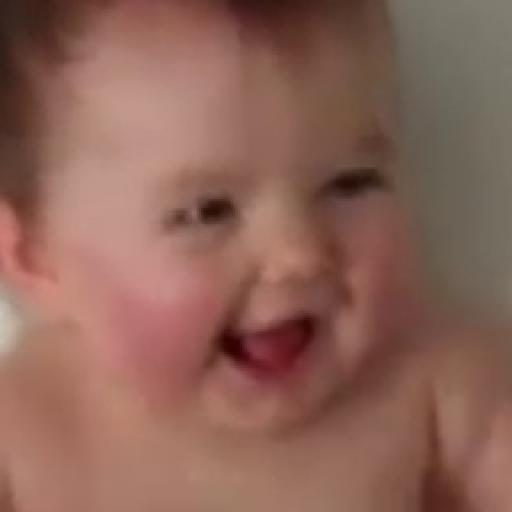Autism: (13, 10, 512, 444)
